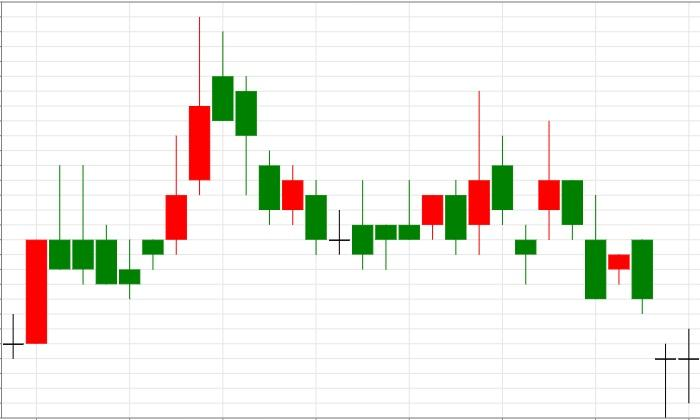hammer_rise: (211, 31, 397, 270)
shooting_star_fall: (2, 165, 71, 358)
